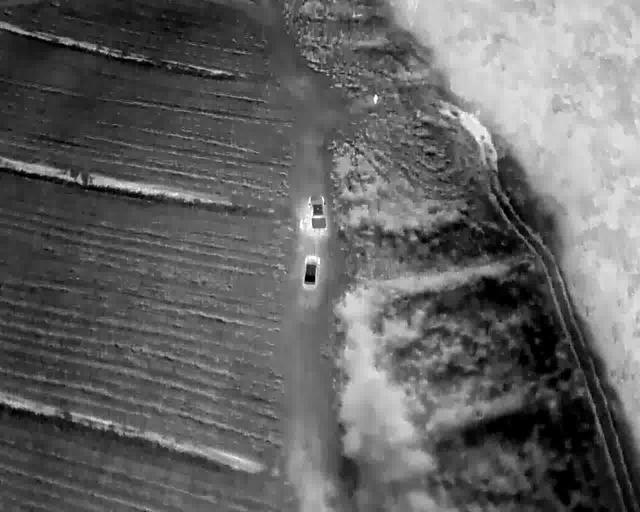car: (308, 195, 327, 231), (303, 255, 320, 286)
person: (372, 94, 378, 104), (299, 219, 303, 229)
